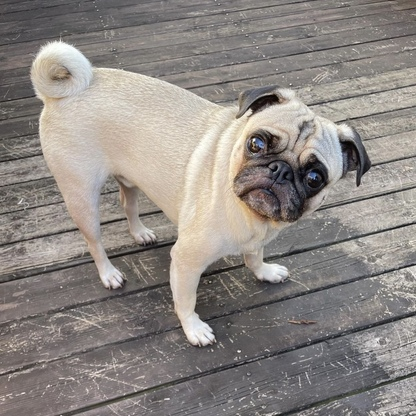Pug: (23, 34, 384, 353)
